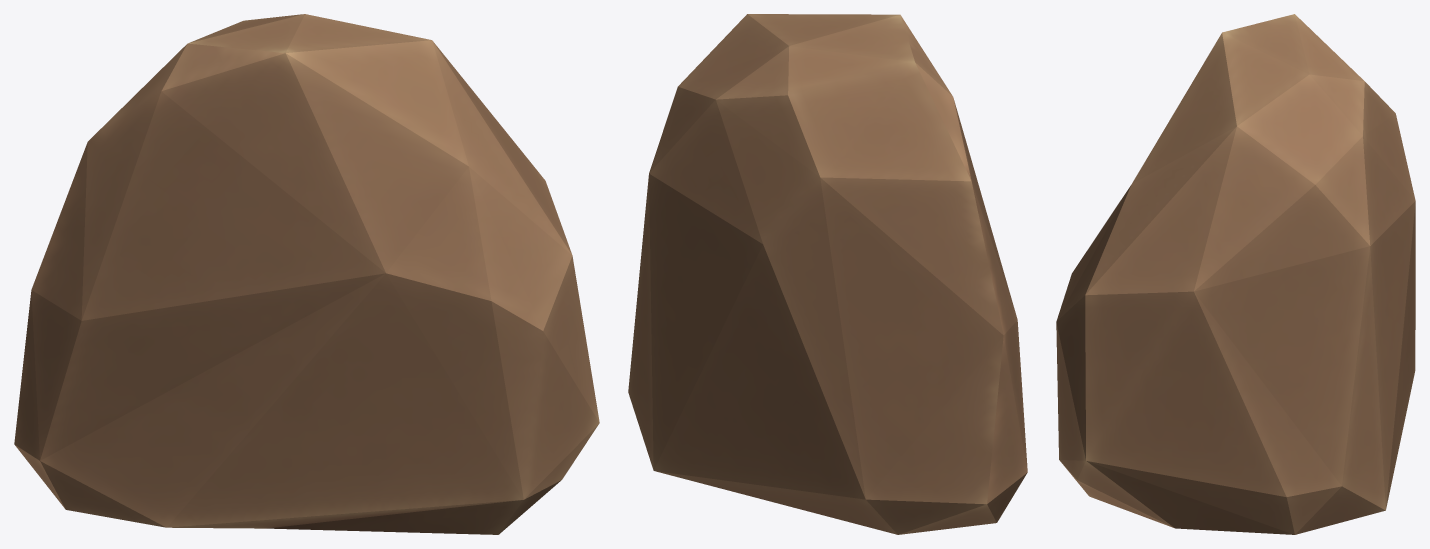
The model's file is Rock_23.fbx.
The picture shows the model from 3 angles, left to right: view 1: azimuth 30°, elevation 25°; view 2: azimuth 150°, elevation 25°; view 3: azimuth 270°, elevation 25°; orthographic projection. The views are drawn at different scales.
Parts seen in each view (by area): view 1: Rock_23; view 2: Rock_23; view 3: Rock_23.
Part boxes in pixels (x1,y1,x2,y2): Rock_23: (14,14,599,534); Rock_23: (628,14,1027,534); Rock_23: (1056,14,1415,534).
Size of the model in its own units: 25.86 by 26.17 by 21.04.
